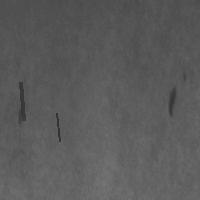inclusion: (166, 70, 188, 117), (14, 105, 25, 133), (18, 80, 25, 122), (54, 111, 61, 143)
